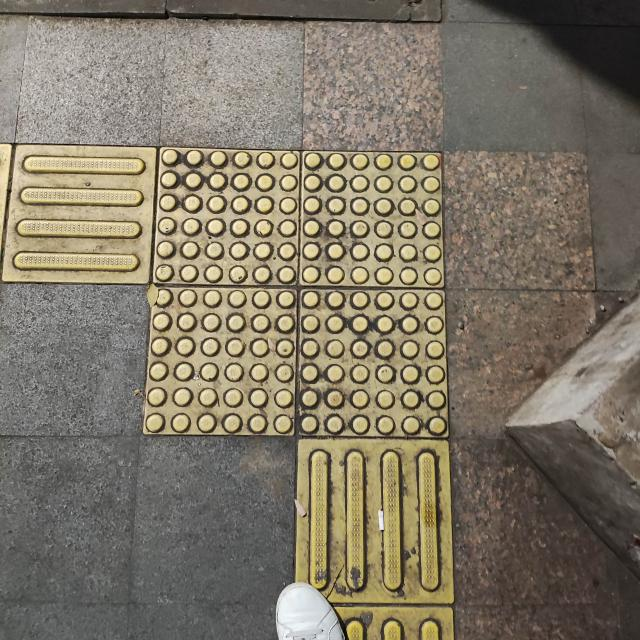kiri: (9, 113, 487, 561)
